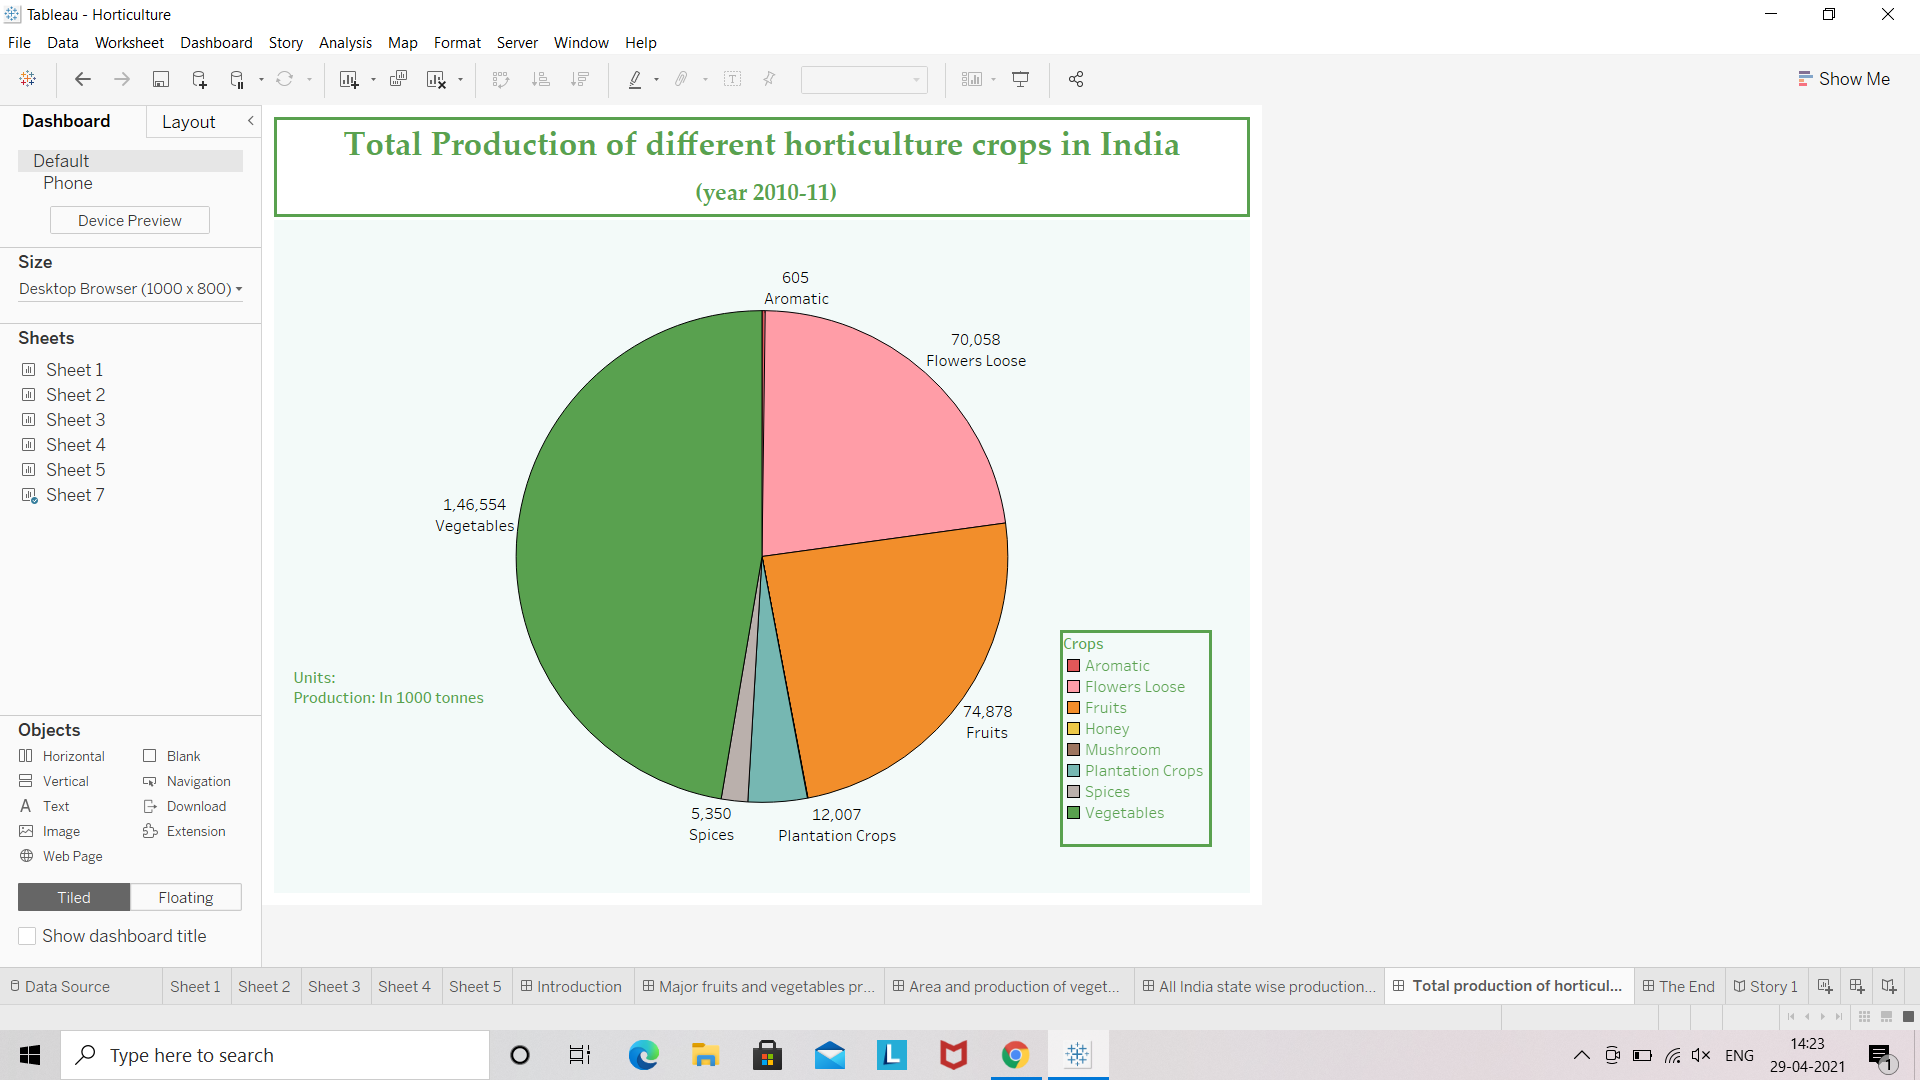

The dashboard page shown, as its layout file describes it:
{"tool":"tableau","page":{"name":" Total production of horticulyure crops in India","canvas":[1000,800],"ordinal":0},"visuals":[{"type":"worksheet","box":[0,0,1000,800]},{"type":"worksheet","param":"horz","box":[8,8,984,784]},{"type":"worksheet","box":[8,8,984,784]},{"type":"worksheet","title":"Sheet 7","mark":"Pie","box":[8,8,984,784]},{"type":"worksheet","title":"Sheet 7","mark":"Pie","param":"[federated.1gx7bta0hvdvte17wrg8a1j53flm].[none:Crops:nk]","box":[798,525,152,217]},{"type":"worksheet","box":[28,547,206,71]}]}

Visuals, with their boxes on the page's 1000x800 design canvas (x1, y1, x2, y2). These are canvas units, not pixel positions in the 1920x1080 screenshot, which may show the page scaled, cropped or inside an application window:
worksheet: {"x1": 0, "y1": 0, "x2": 1000, "y2": 800}
worksheet: {"x1": 8, "y1": 8, "x2": 992, "y2": 792}
worksheet: {"x1": 8, "y1": 8, "x2": 992, "y2": 792}
"Sheet 7" worksheet (Pie marks): {"x1": 8, "y1": 8, "x2": 992, "y2": 792}
"Sheet 7" worksheet (Pie marks): {"x1": 798, "y1": 525, "x2": 950, "y2": 742}
worksheet: {"x1": 28, "y1": 547, "x2": 234, "y2": 618}
